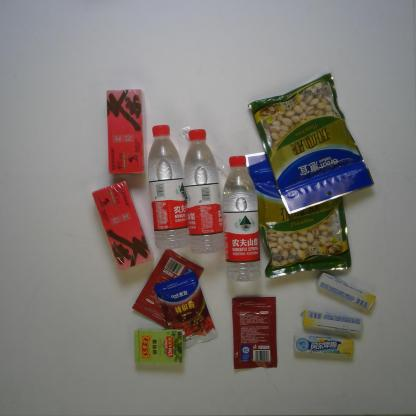Candy: (314, 270, 378, 313), (296, 308, 366, 339), (132, 326, 185, 366), (291, 330, 355, 358)
Dried Fruit: (244, 71, 376, 216), (244, 146, 355, 279)
Drink: (143, 120, 191, 250), (180, 127, 228, 256), (218, 154, 262, 282)
Instant Drink: (90, 180, 154, 273), (104, 85, 149, 178)
Seasoner: (130, 246, 206, 331), (153, 270, 220, 352), (230, 294, 280, 371)
